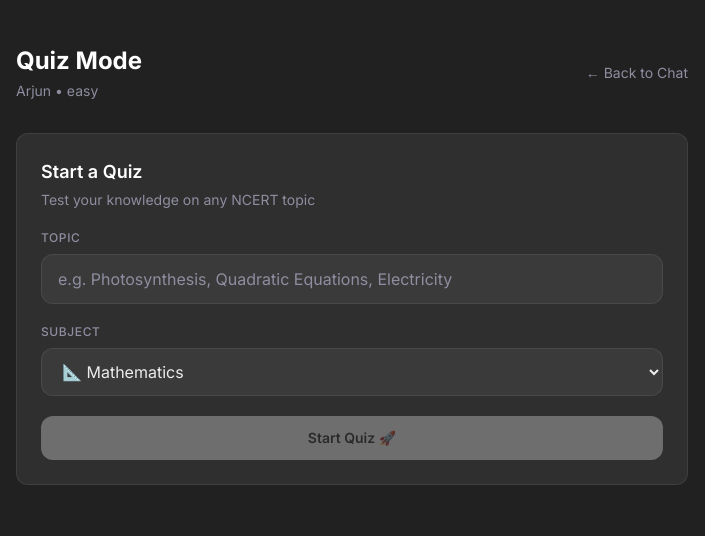
QuizPage › completes the selection and submission flow with difficulty label update
// Phase: Setup - Type topic and start
In the field labelled "Topic": (352, 279) top-left (41, 254), bottom-right (663, 304), type "Science"
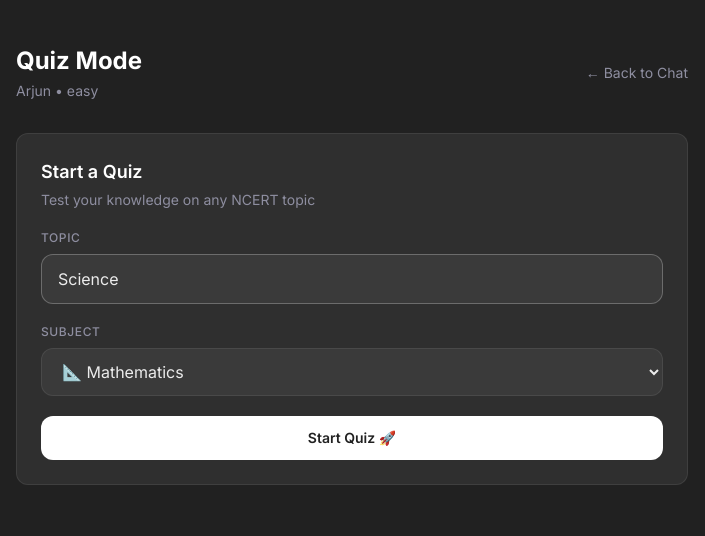
Click the button "Start Quiz 🚀": (352, 438) top-left (41, 416), bottom-right (663, 460)
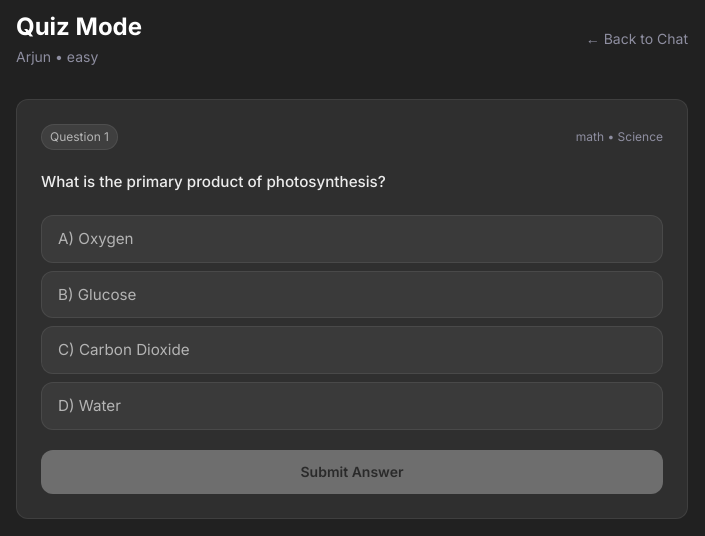
expect the text "What is the primary product of photosynthesis?" is shown: met, box top-left (41, 172), bottom-right (386, 191)
// Multi-step: Select option B then Submit
Click the button "B) Glucose": (97, 294) top-left (41, 271), bottom-right (663, 318)
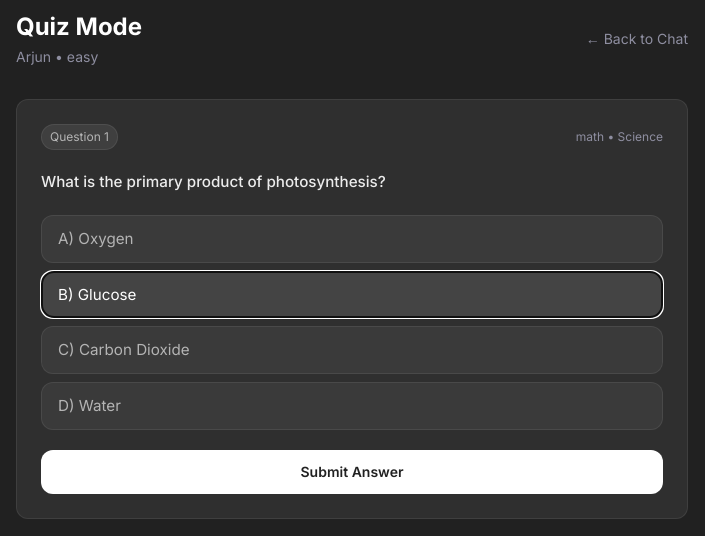
Click the button "Submit Answer": (352, 472) top-left (41, 450), bottom-right (663, 494)
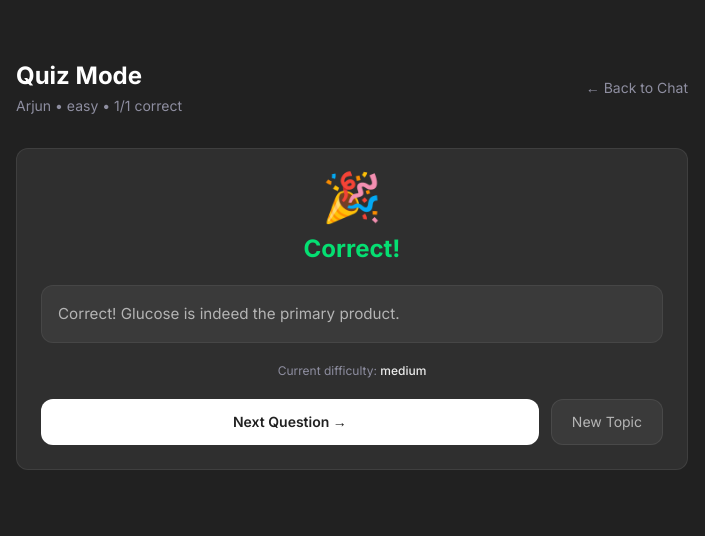
expect the heading "Correct!" is shown: met, box top-left (304, 234), bottom-right (400, 263)
expect the text "medium" is shown: met, box top-left (380, 363), bottom-right (426, 378)
